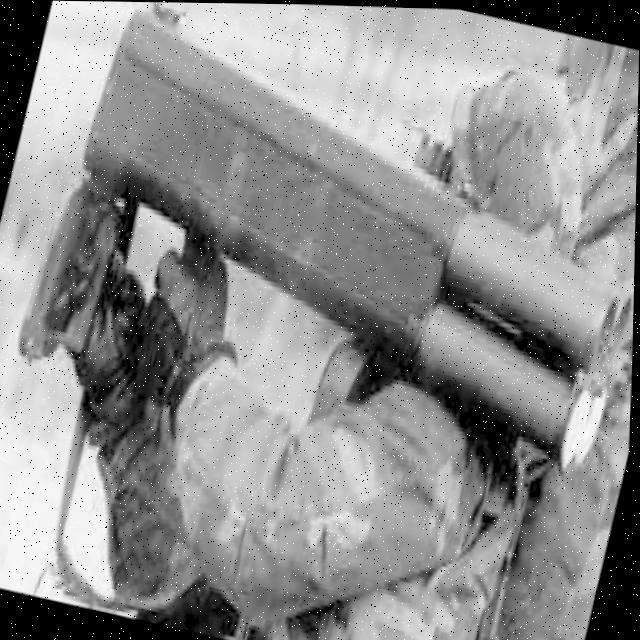rocket: (37, 1, 640, 492)
